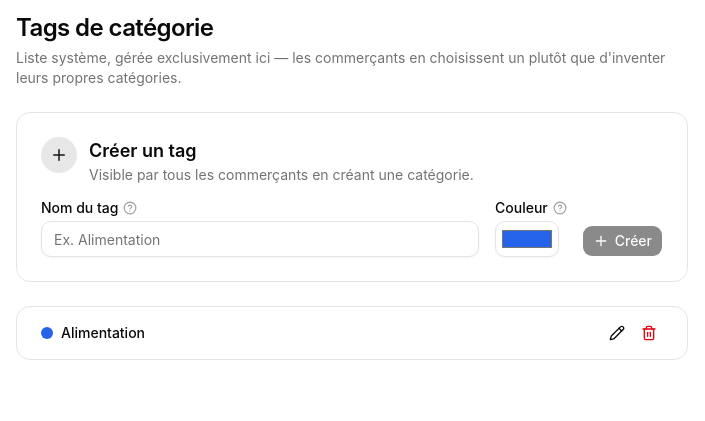
Test: CategoryTagsPageContent › shows an error message when deletion fails
Click the button named "Supprimer Alimentation": (649, 333) [635, 319, 663, 347]
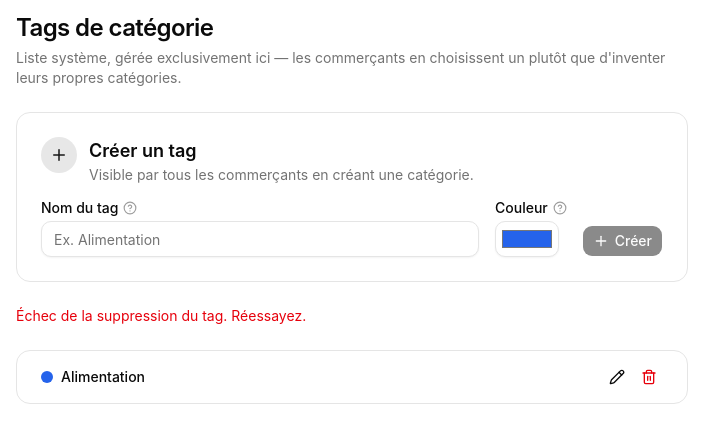
Now the text "Échec de la suppression du tag. Réessayez." is shown, box [16, 307, 306, 324]
